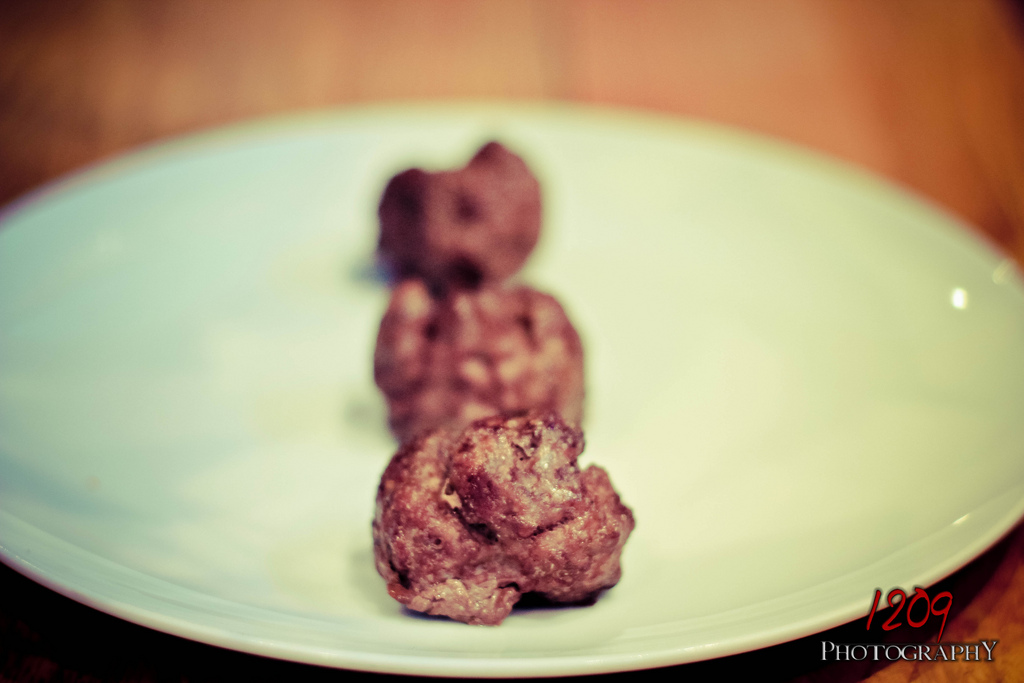meatballs: (389, 432, 637, 610), (378, 281, 597, 446), (364, 162, 565, 297)
